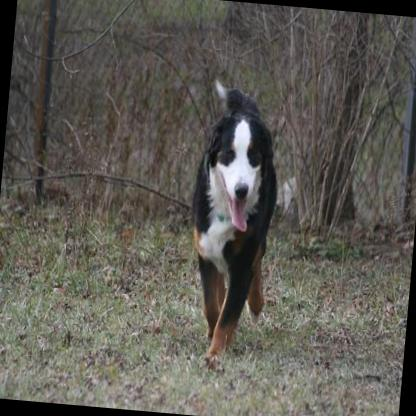Bernese_mountain_dog: (178, 76, 286, 376)
